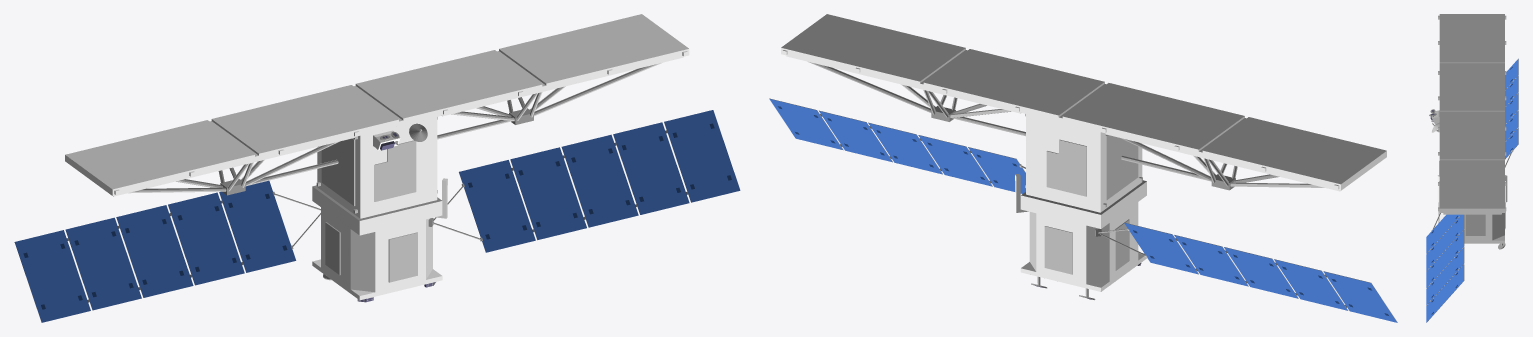
The model's file is RADARSAT-1.fbx.
3 renders of one model, left to right at view 1: azimuth 30°, elevation 25°; view 2: azimuth 150°, elevation 25°; view 3: azimuth 270°, elevation 25°, orthographic. The views are drawn at different scales.
Visible parts, largest first — view 1: imagetostl_mesh11, imagetostl_mesh15, imagetostl_mesh14, imagetostl_mesh4, imagetostl_mesh8, imagetostl_mesh0, imagetostl_mesh1, imagetostl_mesh6, imagetostl_mesh13, imagetostl_mesh2, imagetostl_mesh10, imagetostl_mesh9 (+1 smaller); view 2: imagetostl_mesh11, imagetostl_mesh15, imagetostl_mesh14, imagetostl_mesh8, imagetostl_mesh0, imagetostl_mesh4, imagetostl_mesh1, imagetostl_mesh6, imagetostl_mesh9, imagetostl_mesh10, imagetostl_mesh2, imagetostl_mesh12; view 3: imagetostl_mesh11, imagetostl_mesh15, imagetostl_mesh14, imagetostl_mesh0, imagetostl_mesh4, imagetostl_mesh6, imagetostl_mesh2, imagetostl_mesh9, imagetostl_mesh13, imagetostl_mesh10.
Part boxes in pixels (<box>): imagetostl_mesh11: <box>65,14,688,189</box>; imagetostl_mesh15: <box>459,110,740,252</box>; imagetostl_mesh14: <box>14,180,295,322</box>; imagetostl_mesh4: <box>316,117,437,292</box>; imagetostl_mesh8: <box>359,117,442,294</box>; imagetostl_mesh0: <box>65,49,689,300</box>; imagetostl_mesh1: <box>128,63,661,193</box>; imagetostl_mesh6: <box>312,136,360,290</box>; imagetostl_mesh13: <box>23,123,731,309</box>; imagetostl_mesh2: <box>116,122,690,301</box>; imagetostl_mesh10: <box>113,57,683,196</box>; imagetostl_mesh9: <box>14,108,533,322</box>; imagetostl_mesh11: <box>781,14,1386,184</box>; imagetostl_mesh15: <box>1124,223,1397,322</box>; imagetostl_mesh14: <box>769,99,1025,193</box>; imagetostl_mesh8: <box>1020,114,1100,285</box>; imagetostl_mesh0: <box>781,48,1386,291</box>; imagetostl_mesh4: <box>1025,114,1142,274</box>; imagetostl_mesh1: <box>808,62,1324,187</box>; imagetostl_mesh6: <box>1100,132,1146,282</box>; imagetostl_mesh9: <box>769,98,1397,322</box>; imagetostl_mesh10: <box>786,55,1340,191</box>; imagetostl_mesh2: <box>817,110,1298,300</box>; imagetostl_mesh12: <box>820,114,1346,307</box>; imagetostl_mesh11: <box>1439,14,1504,208</box>; imagetostl_mesh15: <box>1426,214,1463,322</box>; imagetostl_mesh14: <box>1505,59,1518,158</box>; imagetostl_mesh0: <box>1431,15,1507,243</box>; imagetostl_mesh4: <box>1431,120,1505,240</box>; imagetostl_mesh6: <box>1456,214,1492,240</box>; imagetostl_mesh2: <box>1426,75,1518,288</box>; imagetostl_mesh9: <box>1426,59,1518,322</box>; imagetostl_mesh13: <box>1431,67,1512,314</box>; imagetostl_mesh10: <box>1443,213,1501,214</box>.
Bounding box in the file's own units: 16022 × 4319 × 2812.
